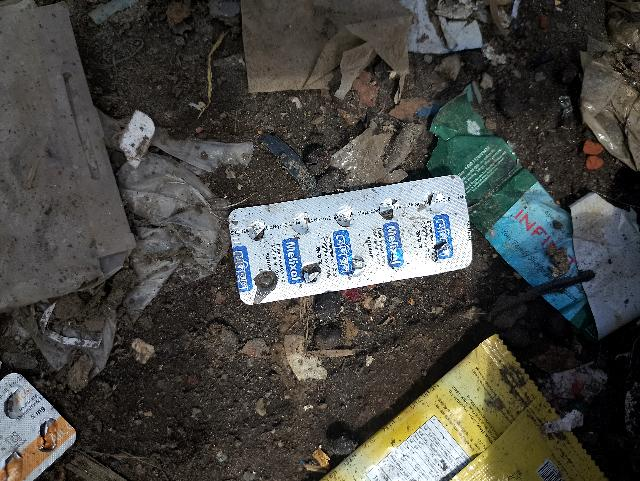medicine: (230, 191, 475, 281)
